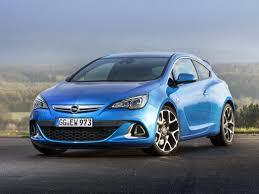opel: (68, 100, 83, 116)
